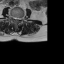CCS_stenosis: (16, 15, 17, 23)
LFS_normal: (19, 15, 21, 21)
LLS_normal: (17, 15, 19, 22)
RFS_normal: (12, 14, 14, 20)
RLS_normal: (14, 15, 16, 21)
